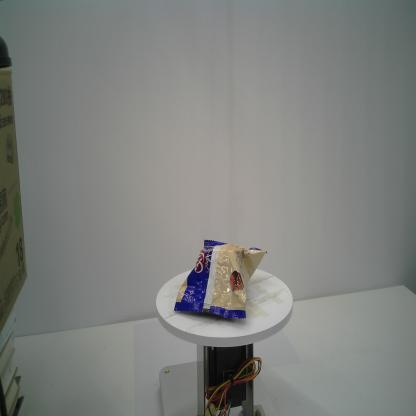Dessert: (172, 239, 268, 320)
